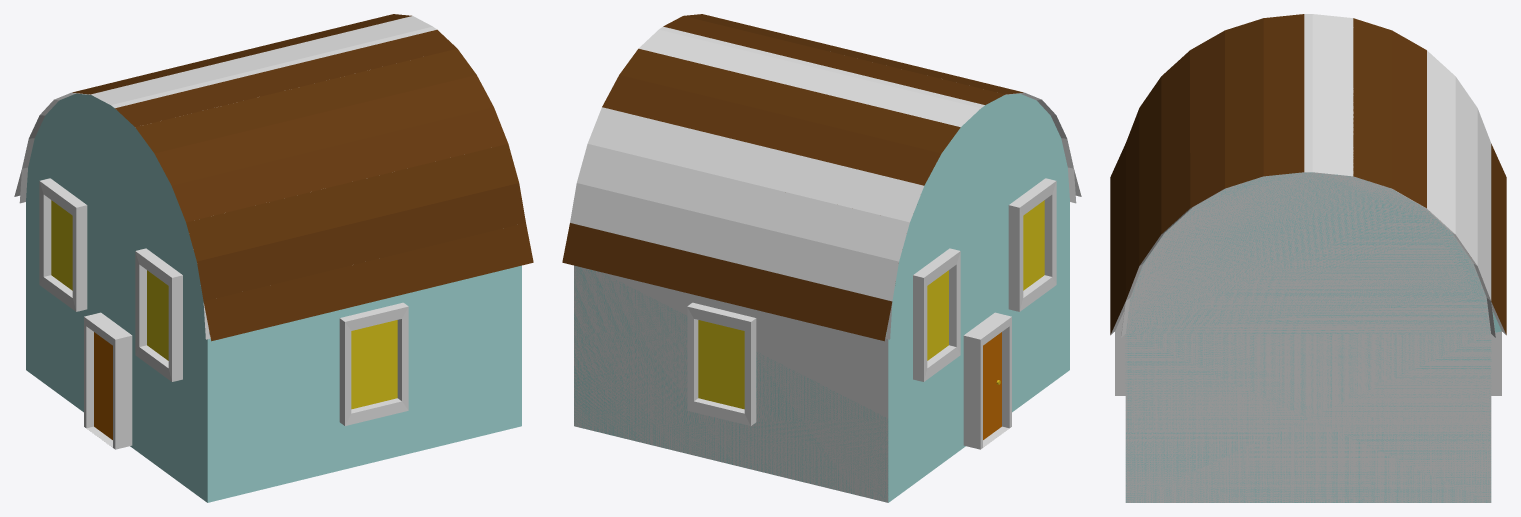
File: house1.glb
3 views of the same model, side by side, from view 1: azimuth 30°, elevation 25°; view 2: azimuth 150°, elevation 25°; view 3: azimuth 270°, elevation 25° (orthographic).
Visible parts, largest first — view 1: Cube; view 2: Cube; view 3: Cube.
Part boxes in pixels (box(x1,y1,x2,y2)): Cube: box(14, 14, 533, 502); Cube: box(562, 14, 1081, 502); Cube: box(1110, 14, 1506, 502).
Size of the model in its own units: 4 by 3.77 by 4.07.
